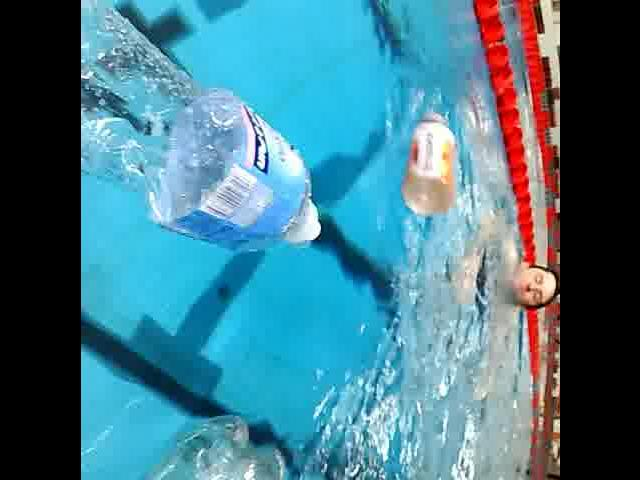Bottle: (80, 0, 326, 258), (80, 408, 295, 480), (395, 104, 463, 224)
